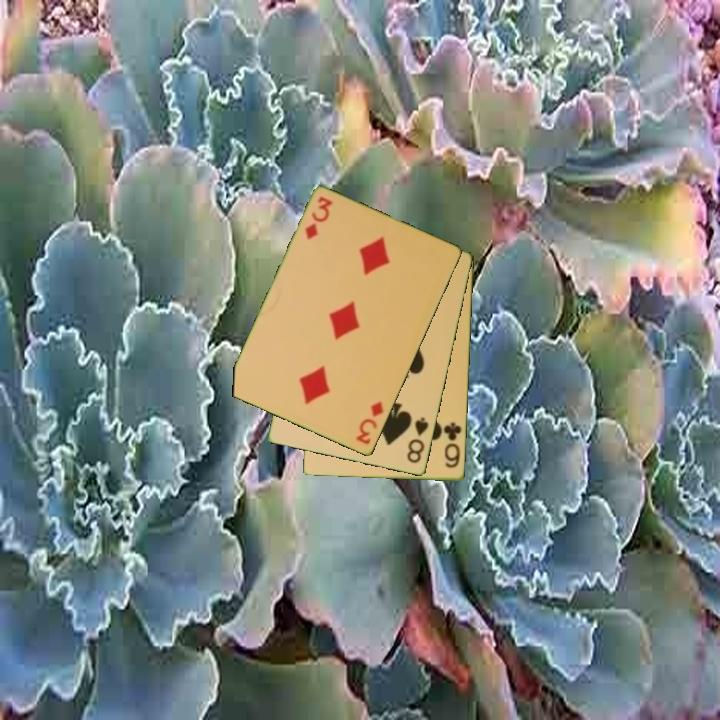3d: (301, 193, 336, 242), (353, 398, 387, 448)
6c: (441, 419, 464, 471)
8s: (404, 414, 432, 466)
